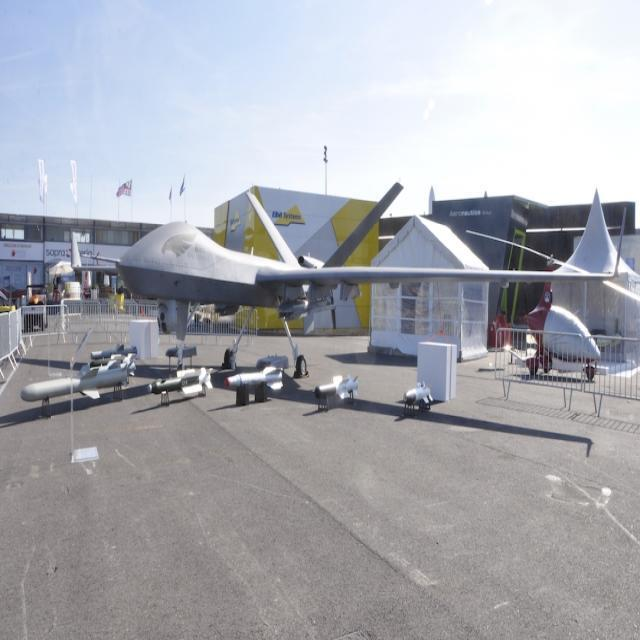iha: (67, 182, 640, 376)
